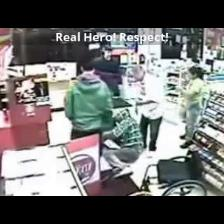person: (65, 54, 112, 139), (133, 66, 164, 151), (103, 110, 143, 170), (180, 67, 205, 148), (94, 46, 121, 95)
